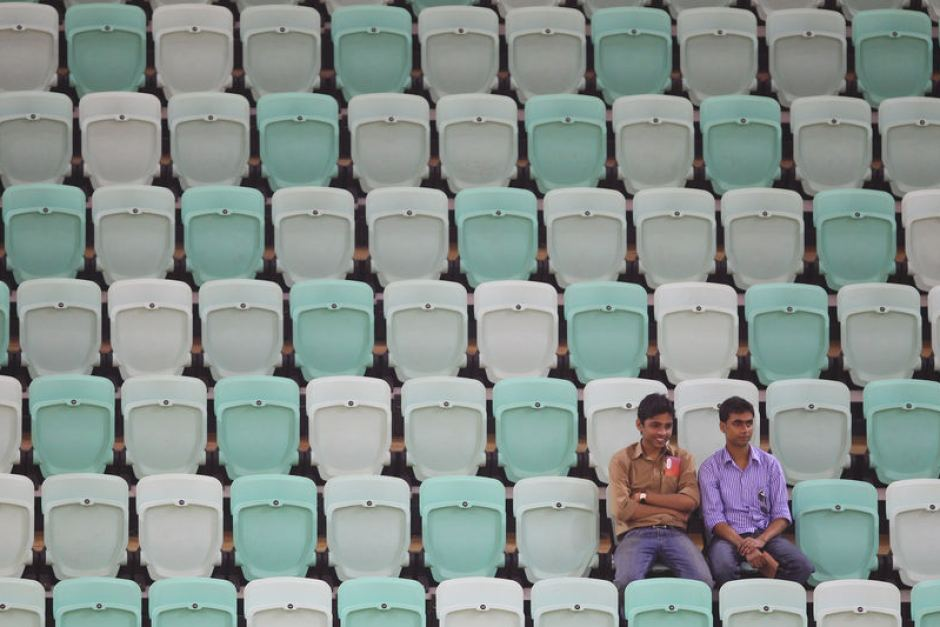Person: (697, 394, 817, 592), (608, 393, 714, 596)
